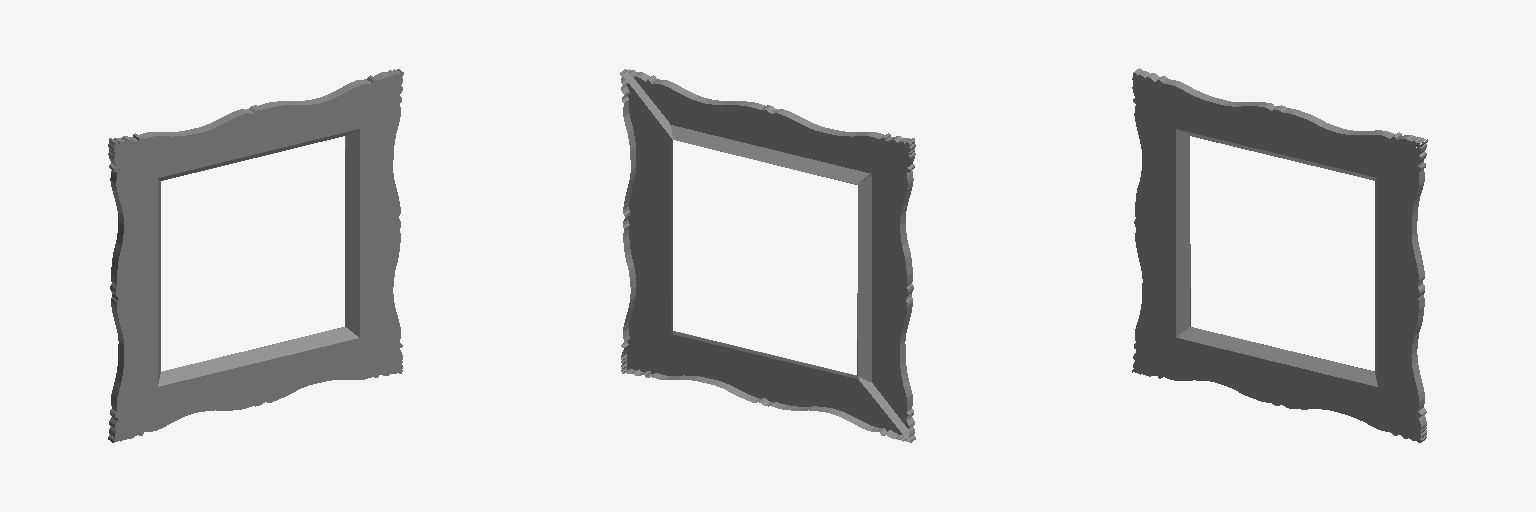
The model's file is bigframe3.obj.
The picture shows the model from 3 angles: view 1: azimuth 30°, elevation 25°; view 2: azimuth 150°, elevation 25°; view 3: azimuth 330°, elevation 25°; orthographic projection.
Visible parts, largest first — view 1: bigframe3_Mesh.003; view 2: bigframe3_Mesh.003; view 3: bigframe3_Mesh.003.
Boxes of the visible parts, <box> form: bigframe3_Mesh.003: <box>108,69,403,442</box>; bigframe3_Mesh.003: <box>620,69,915,442</box>; bigframe3_Mesh.003: <box>1132,68,1427,442</box>.
Bounding box in the file's own units: 4.1 × 4.07 × 0.1419.